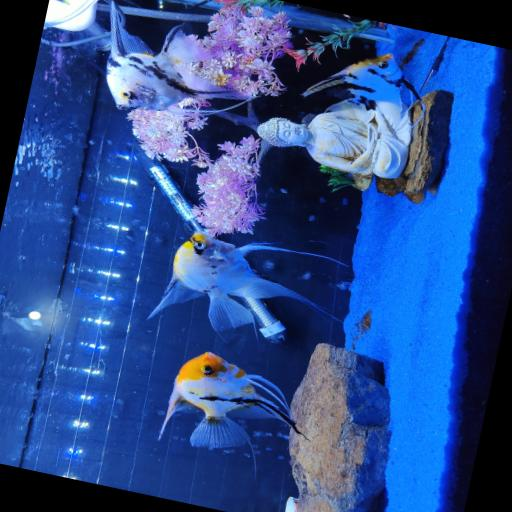Fish: (149, 232, 338, 331), (107, 3, 249, 110), (159, 351, 303, 447), (303, 53, 418, 111)
